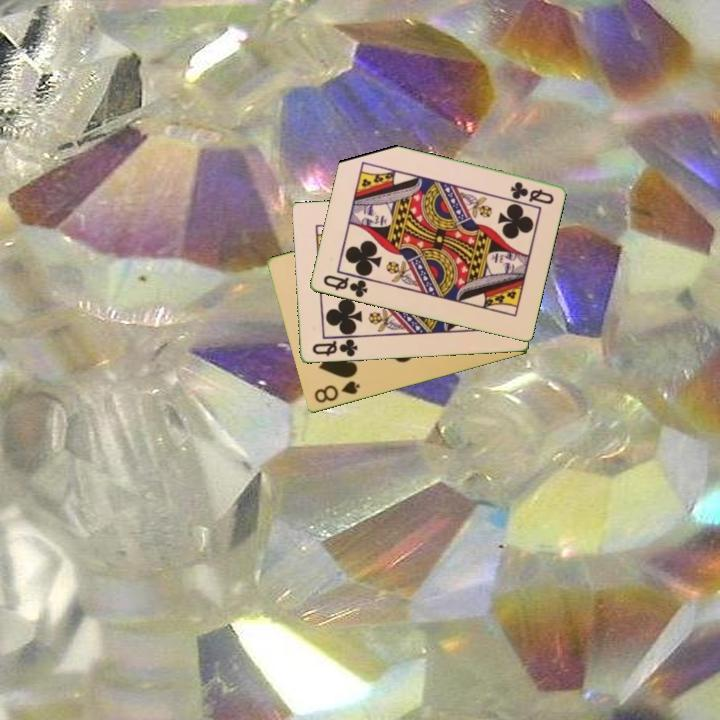8s: (310, 377, 363, 406)
Qc: (319, 272, 370, 301), (506, 178, 556, 207), (308, 336, 360, 360)
